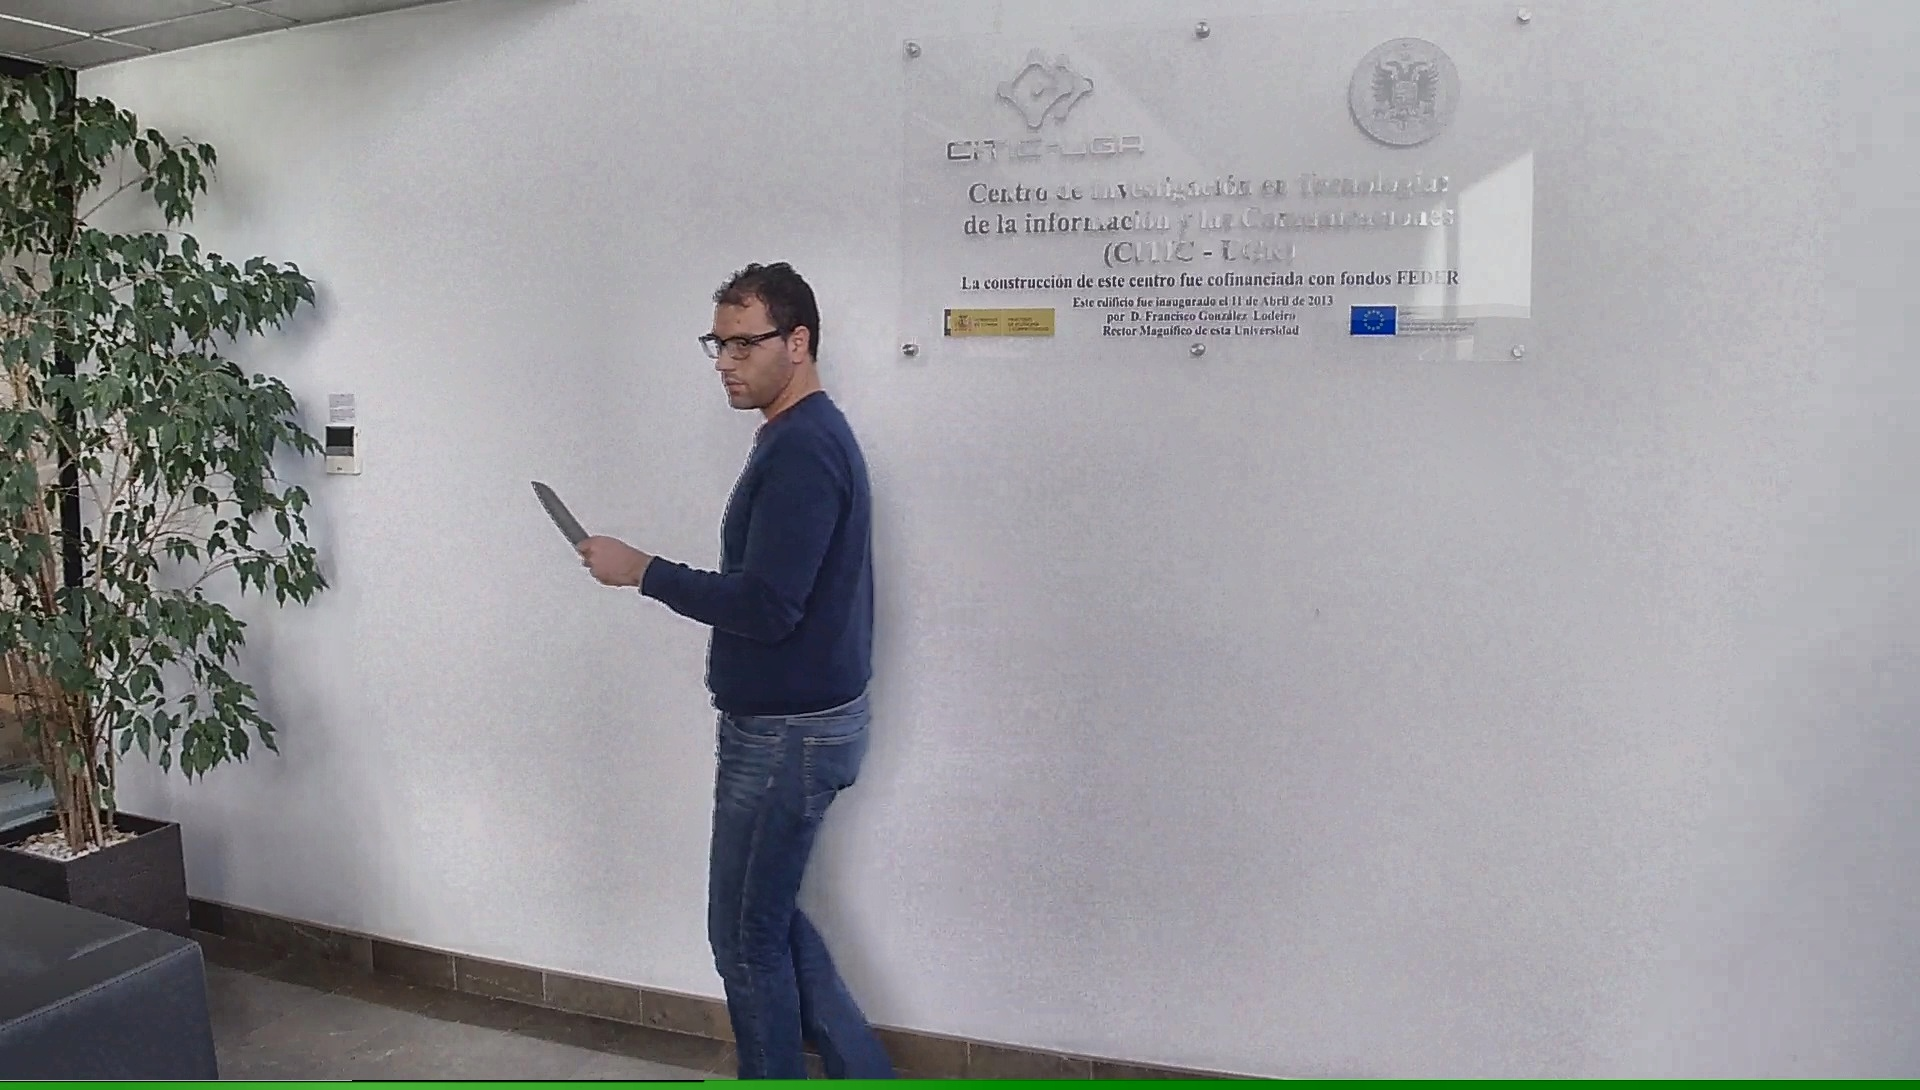knife: (524, 474, 613, 573)
